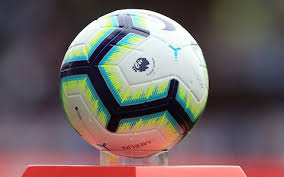football: (57, 5, 212, 158)
